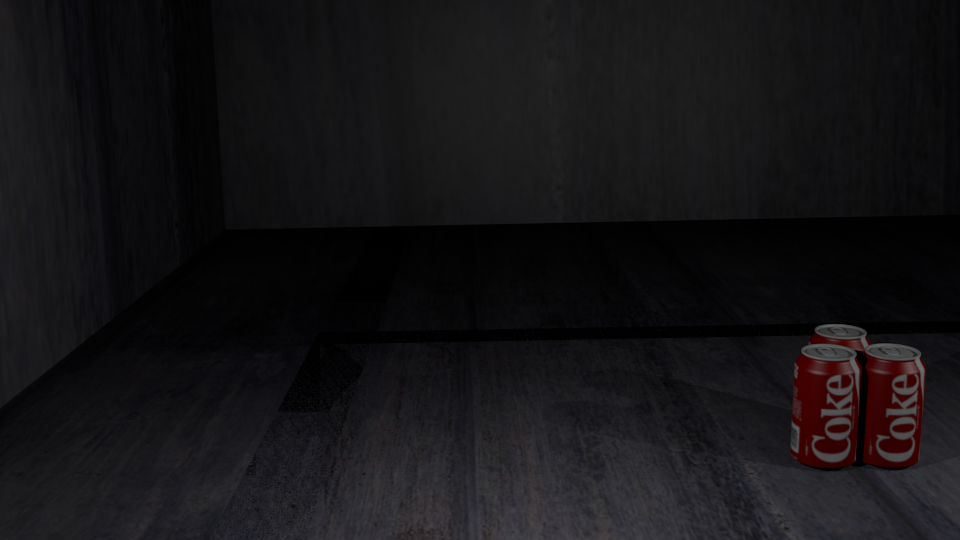cola_can: (793, 344, 861, 464), (857, 344, 925, 463), (811, 324, 870, 438)
